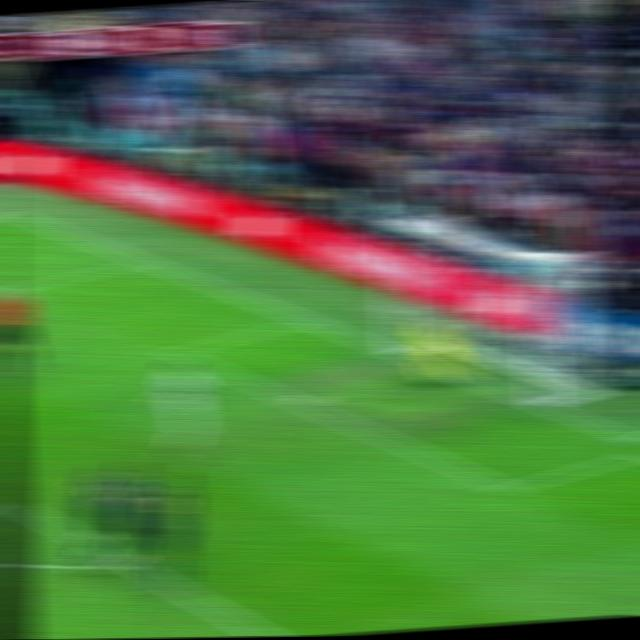bigarea_top_outter: (125, 248, 163, 271)
smallarea_bottom_inner: (485, 467, 534, 510)
smallarea_top_inner: (157, 337, 195, 364)
smallarea_top_outter: (288, 308, 326, 333)
